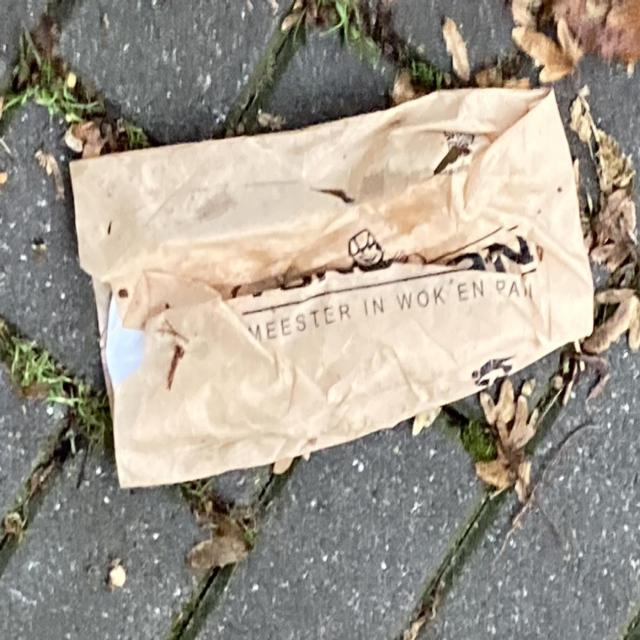Paper: (65, 84, 598, 493)
